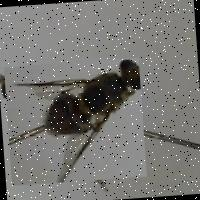Oriental-fruit-fly: (4, 58, 146, 186)
